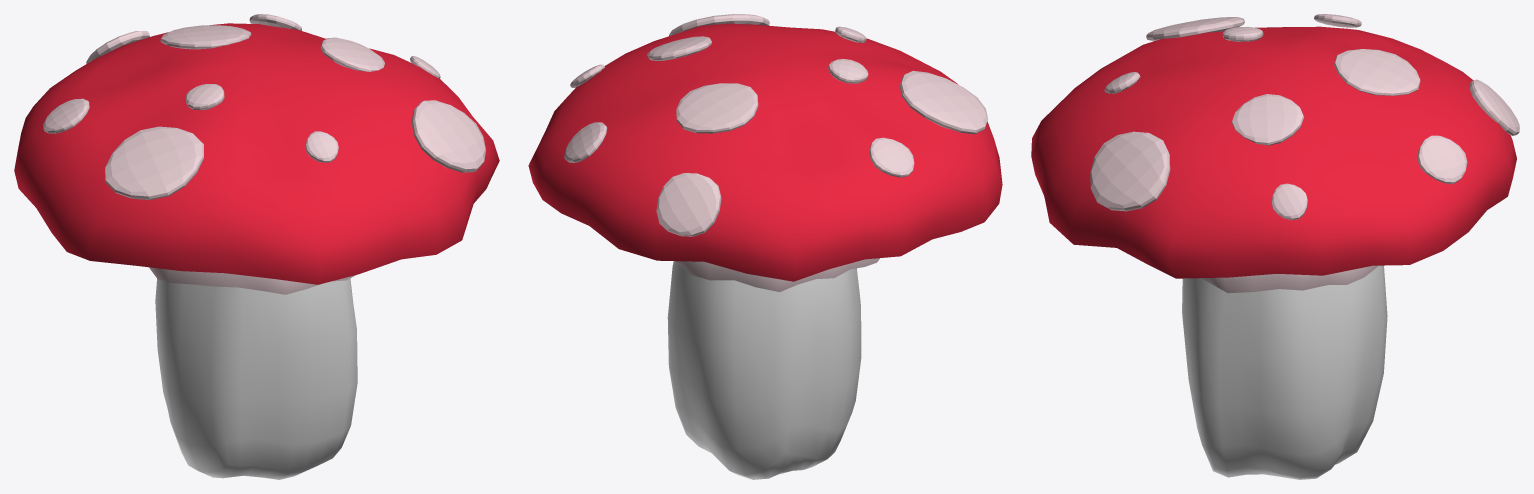
Rendered from MuhomorGrib.fbx.
3 renders of one model, left to right at view 1: azimuth 30°, elevation 25°; view 2: azimuth 150°, elevation 25°; view 3: azimuth 270°, elevation 25°, orthographic. The views are drawn at different scales.
Visible parts, largest first — view 1: Sphere, Cube, Cube.005, Cube.009, Sphere.001, Cube.004, Cube.001, Cube.003, Cube.002, Cube.010, Cube.006, Cube.007; view 2: Sphere, Cube, Cube.005, Cube.004, Cube.006, Sphere.001, Cube.003, Cube.007, Cube.001, Cube.009, Cube.010; view 3: Sphere, Cube, Cube.009, Cube.004, Cube.001, Sphere.001, Cube.007, Cube.006, Cube.005, Cube.008, Cube.010.
Boxes of the visible parts, bbox=[...] form: Sphere: bbox=[14, 23, 499, 284]; Cube: bbox=[155, 278, 357, 479]; Cube.005: bbox=[105, 126, 203, 199]; Cube.009: bbox=[411, 100, 485, 172]; Sphere.001: bbox=[149, 267, 355, 294]; Cube.004: bbox=[160, 25, 251, 49]; Cube.001: bbox=[320, 37, 384, 71]; Cube.003: bbox=[43, 98, 89, 133]; Cube.002: bbox=[305, 131, 338, 162]; Cube.010: bbox=[185, 84, 224, 110]; Cube.006: bbox=[86, 31, 149, 63]; Cube.007: bbox=[249, 14, 301, 30]; Sphere: bbox=[528, 23, 1002, 281]; Cube: bbox=[667, 261, 861, 479]; Cube.005: bbox=[899, 70, 987, 134]; Cube.004: bbox=[676, 83, 758, 133]; Cube.006: bbox=[656, 173, 721, 236]; Sphere.001: bbox=[674, 258, 879, 292]; Cube.003: bbox=[869, 137, 914, 177]; Cube.007: bbox=[564, 122, 607, 162]; Cube.001: bbox=[647, 36, 711, 60]; Cube.009: bbox=[669, 14, 769, 35]; Cube.010: bbox=[828, 59, 868, 83]; Sphere: bbox=[1031, 26, 1516, 278]; Cube: bbox=[1182, 265, 1387, 479]; Cube.009: bbox=[1090, 131, 1170, 211]; Cube.004: bbox=[1334, 49, 1420, 95]; Cube.001: bbox=[1231, 94, 1303, 145]; Sphere.001: bbox=[1201, 265, 1377, 293]; Cube.007: bbox=[1417, 135, 1467, 184]; Cube.006: bbox=[1470, 79, 1519, 135]; Cube.005: bbox=[1146, 17, 1244, 41]; Cube.008: bbox=[1271, 183, 1307, 220]; Cube.010: bbox=[1222, 27, 1263, 41].
Size of the model in its own units: 849 by 801 by 872.
